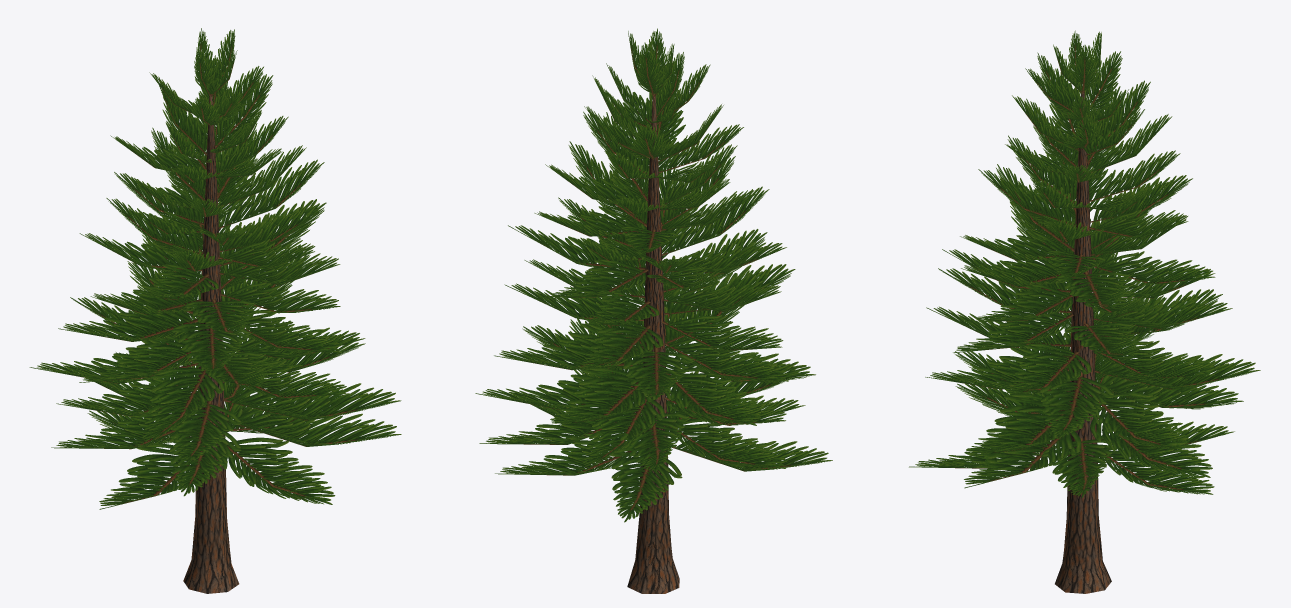
The model's file is Pine02.fbx.
3 views of the same model, side by side, from view 1: azimuth 30°, elevation 25°; view 2: azimuth 150°, elevation 25°; view 3: azimuth 270°, elevation 25° (orthographic).
Parts seen in each view (by area): view 1: Pine02_LOD0; view 2: Pine02_LOD0; view 3: Pine02_LOD0.
Part boxes in pixels (x1=…): Pine02_LOD0: x1=29, y1=28, x2=401, y2=593; Pine02_LOD0: x1=475, y1=28, x2=832, y2=593; Pine02_LOD0: x1=909, y1=30, x2=1260, y2=593.
Size of what is drawn, in the model's own units: 3.95 by 5.95 by 3.8.
